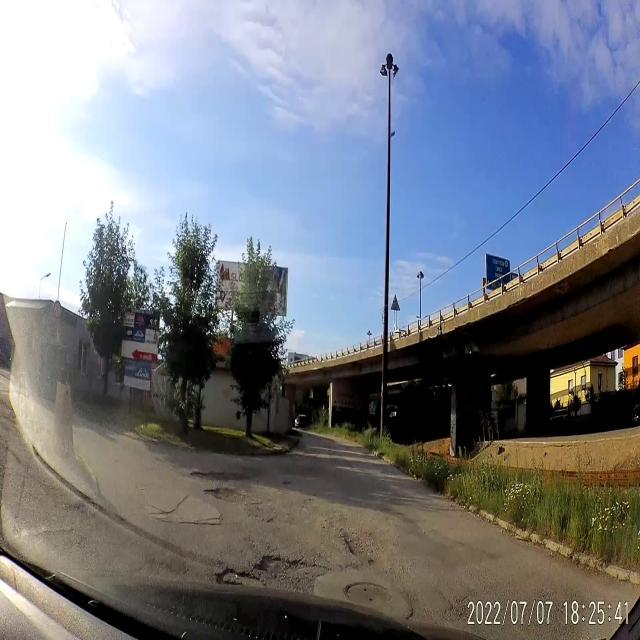Manhole: (339, 573, 390, 609)
Pothole: (212, 546, 320, 594), (334, 528, 380, 568), (205, 480, 248, 507), (187, 466, 253, 479), (279, 476, 297, 490)
